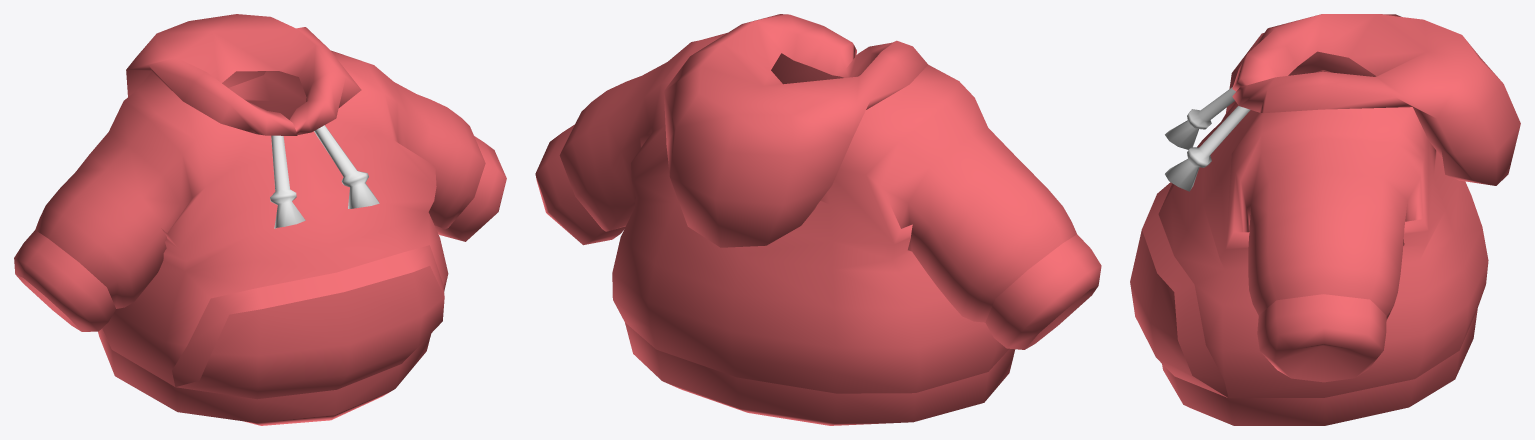
File: Top_03_Fat.fbx
3 renders of one model, left to right at view 1: azimuth 30°, elevation 25°; view 2: azimuth 150°, elevation 25°; view 3: azimuth 270°, elevation 25°, orthographic. The views are drawn at different scales.
Parts seen in each view (by area): view 1: Top_03_Fat; view 2: Top_03_Fat; view 3: Top_03_Fat.
Part boxes in pixels (box(x1,y1,x2,y2)): Top_03_Fat: box(14, 14, 506, 425); Top_03_Fat: box(535, 14, 1101, 425); Top_03_Fat: box(1130, 14, 1520, 425).
Bounding box in the file's own units: 91.47 × 57.22 × 60.32.
